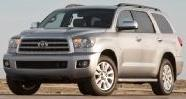front_view: (3, 34, 96, 76)
headlight: (71, 35, 99, 52)
side_glass: (115, 9, 155, 34)
